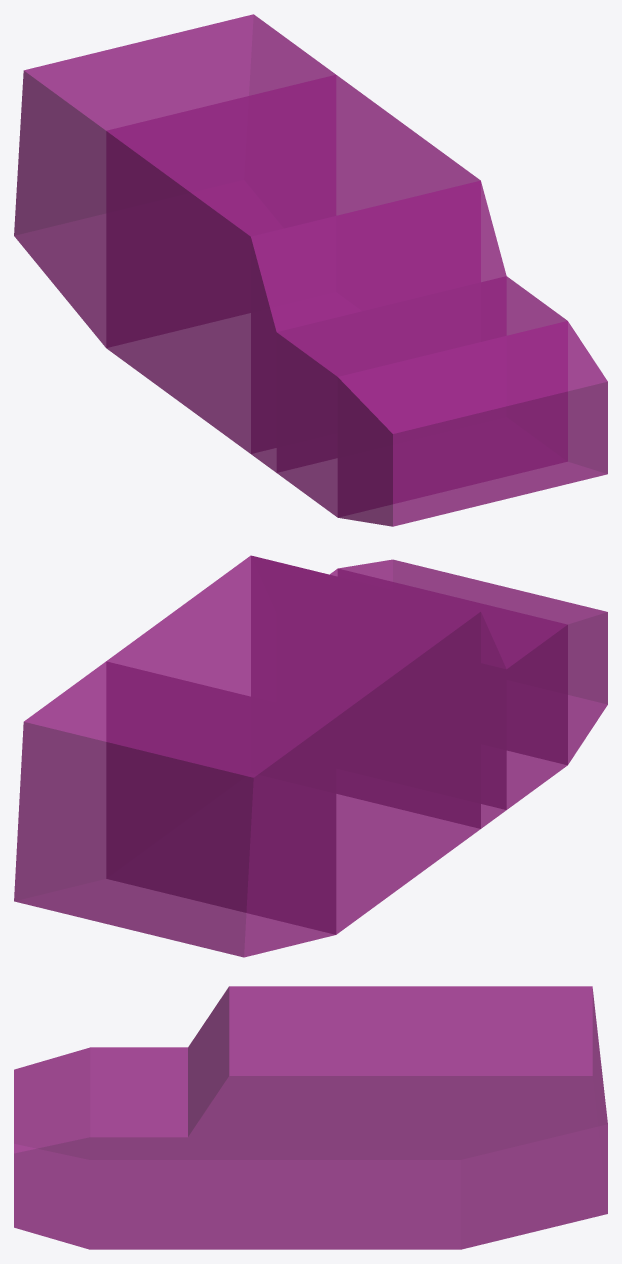
File: SM_Veh_Suv_01_Collision.fbx
3 renders of one model, top to bottom at view 1: azimuth 30°, elevation 25°; view 2: azimuth 150°, elevation 25°; view 3: azimuth 270°, elevation 25°, orthographic. The views are drawn at different scales.
Parts seen in each view (by area): view 1: SM_Veh_Suv_01_Collision; view 2: SM_Veh_Suv_01_Collision; view 3: SM_Veh_Suv_01_Collision.
Boxes of the visible parts, left/top/right/bottom form: SM_Veh_Suv_01_Collision: left=14, top=14, right=607, bottom=526; SM_Veh_Suv_01_Collision: left=14, top=555, right=607, bottom=957; SM_Veh_Suv_01_Collision: left=14, top=986, right=607, bottom=1249.
Bounding box in the file's own units: 203 × 183 × 567.
